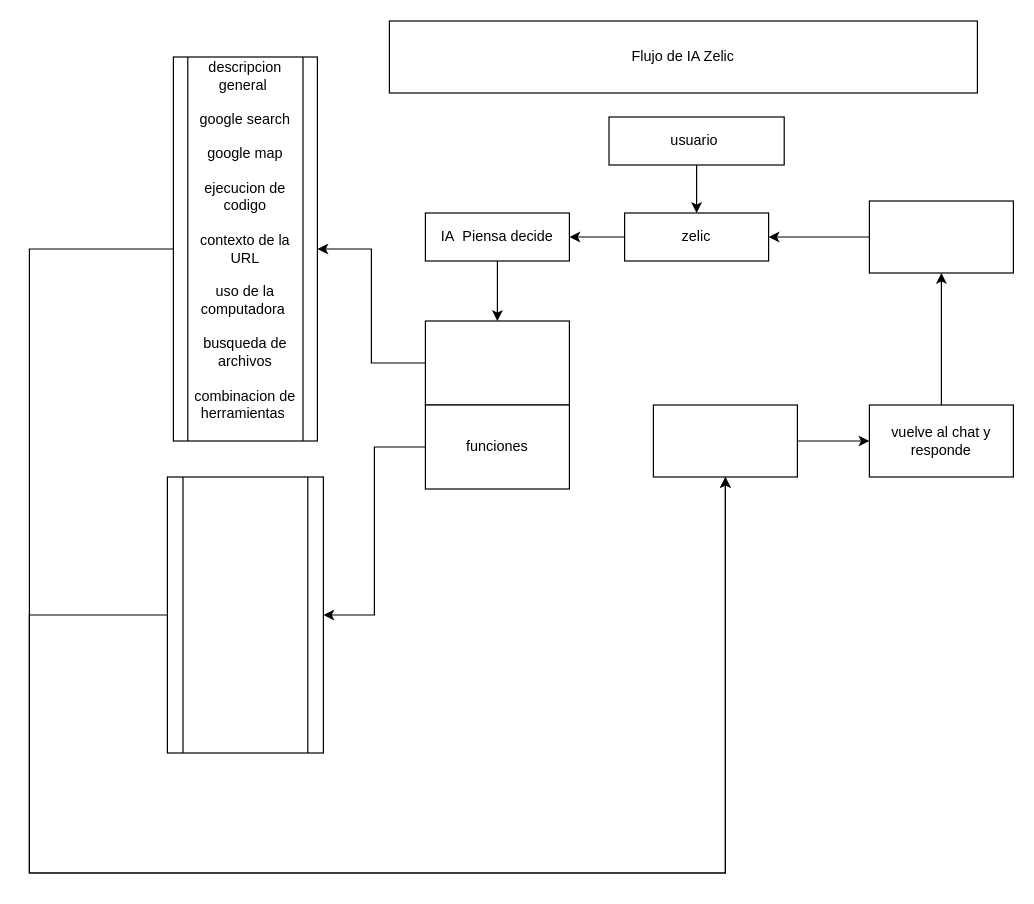
The diagram is 1034 pixels wide and 904 high, and some of its shapes have lost their labels. Each missing label, with the box of its shape:
herramienta: (424, 320, 569, 405)
respuesta final: (868, 200, 1013, 273)
resultado: (652, 404, 797, 477)
texto imagenes video documento audio razonamiento resultados estrtucturados: (166, 476, 323, 753)
